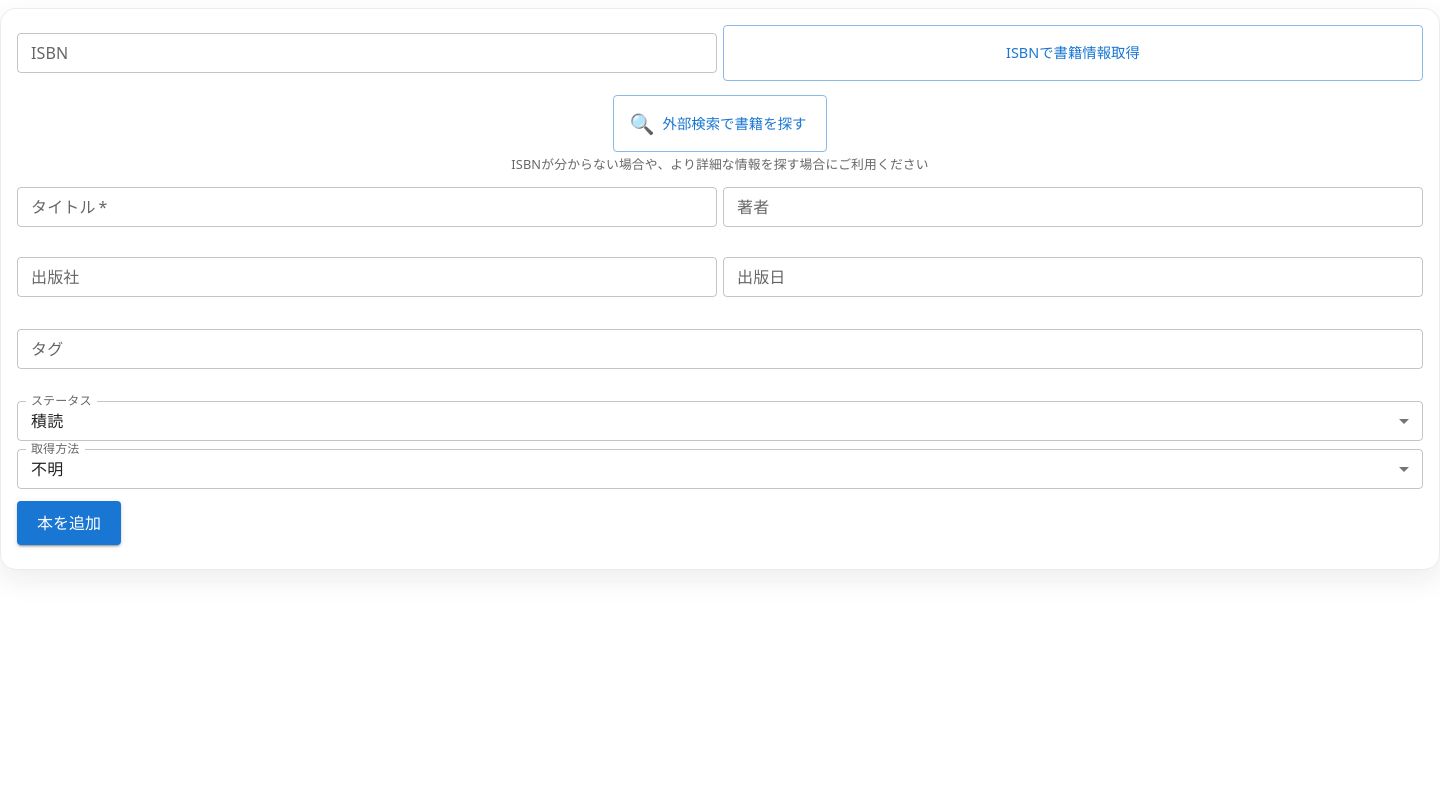
Test: BookForm › fetches book info by ISBN
#  ISBNを入力
In the field with test id "book-isbn-input": (367, 53) 17,33 -> 717,73, type "978-4-1234-5678-9"
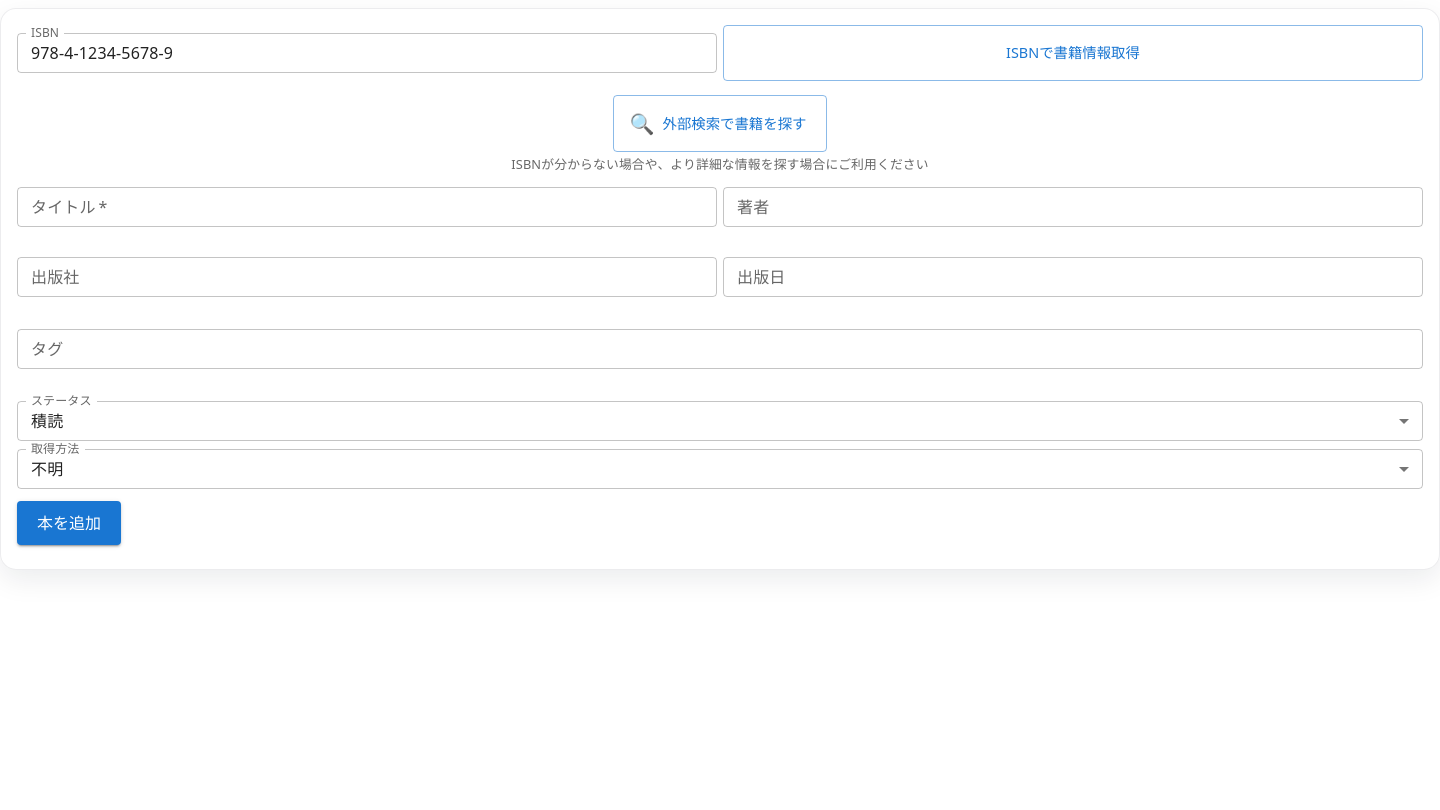
# ISBN取得ボタンをクリック
Click the button with test id "book-fetch-button": (1073, 53) 723,25 -> 1423,81
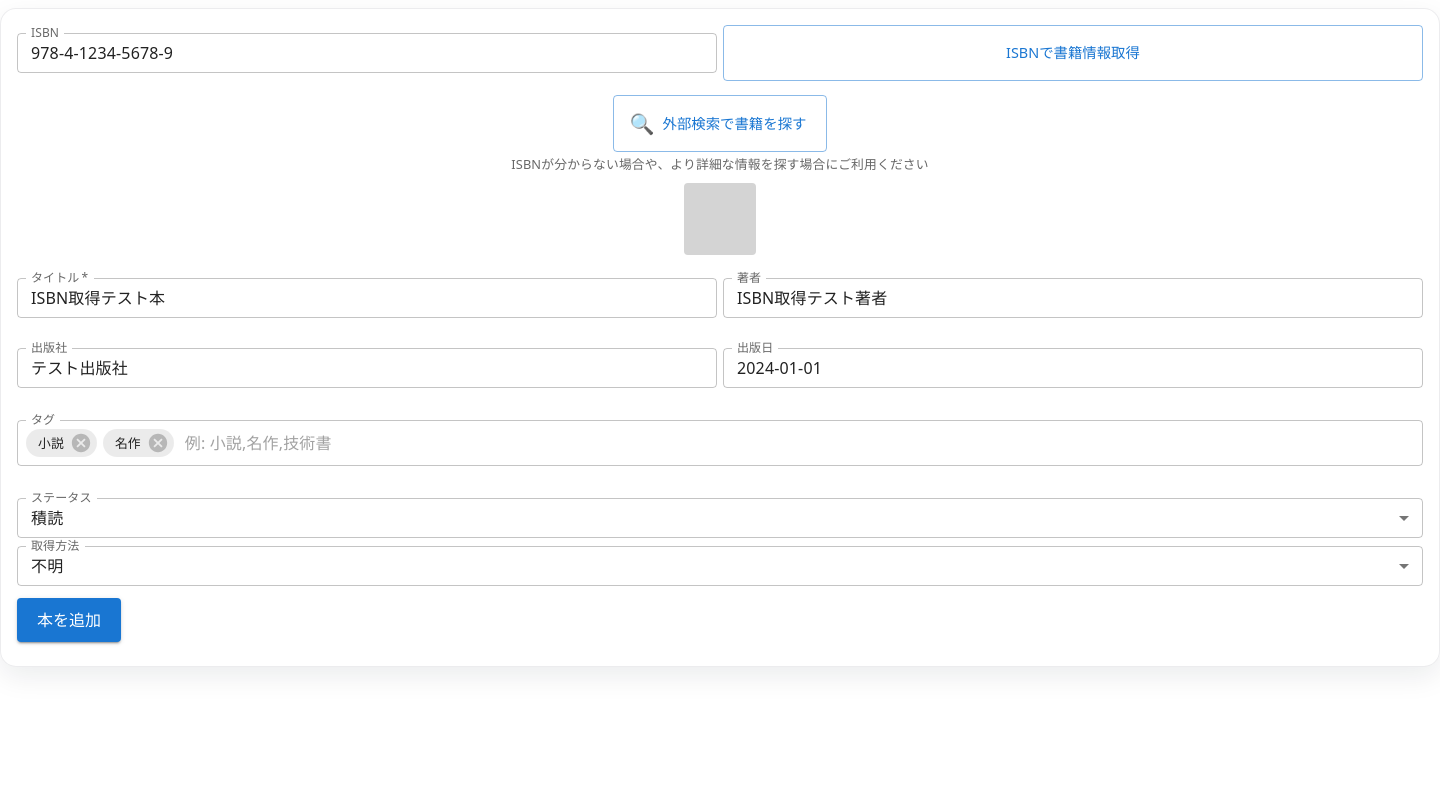
Now the field with test id "book-title-input" holds "ISBN取得テスト本", box 17,278 -> 717,318
Now the field with test id "book-author-input" holds "ISBN取得テスト著者", box 723,278 -> 1423,318
